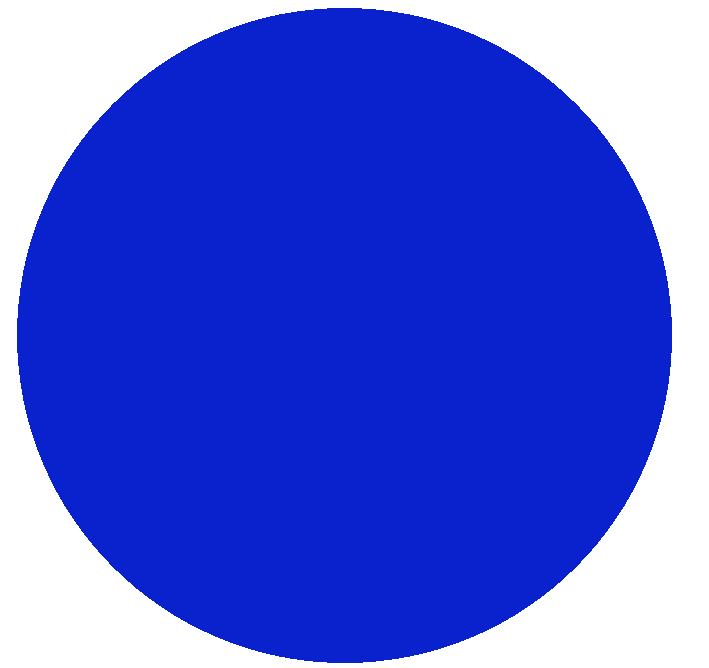blue_circle: (3, 0, 695, 668)
